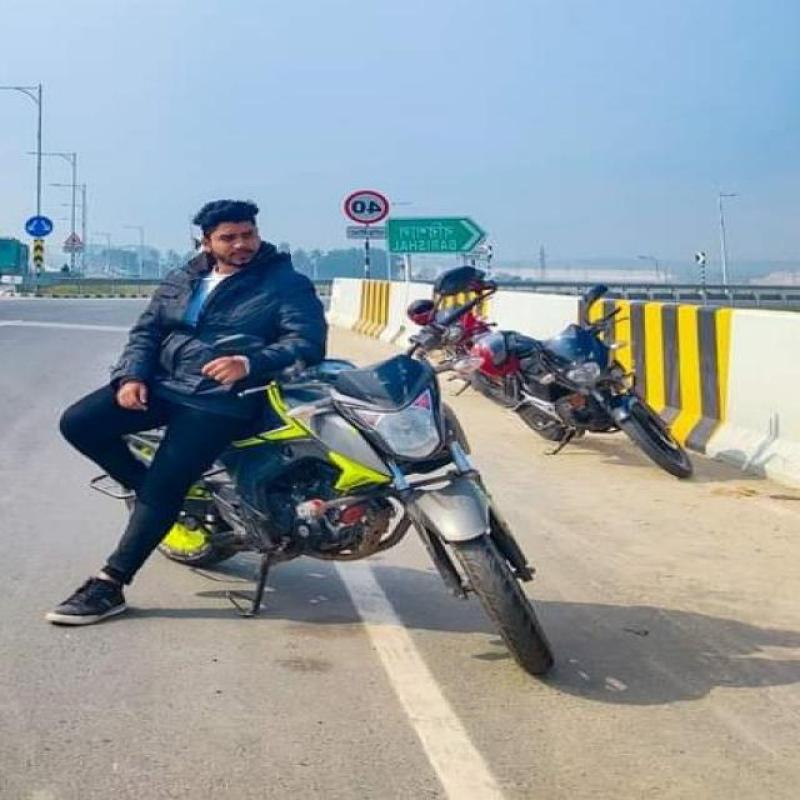nohelmet: (168, 187, 290, 279)
